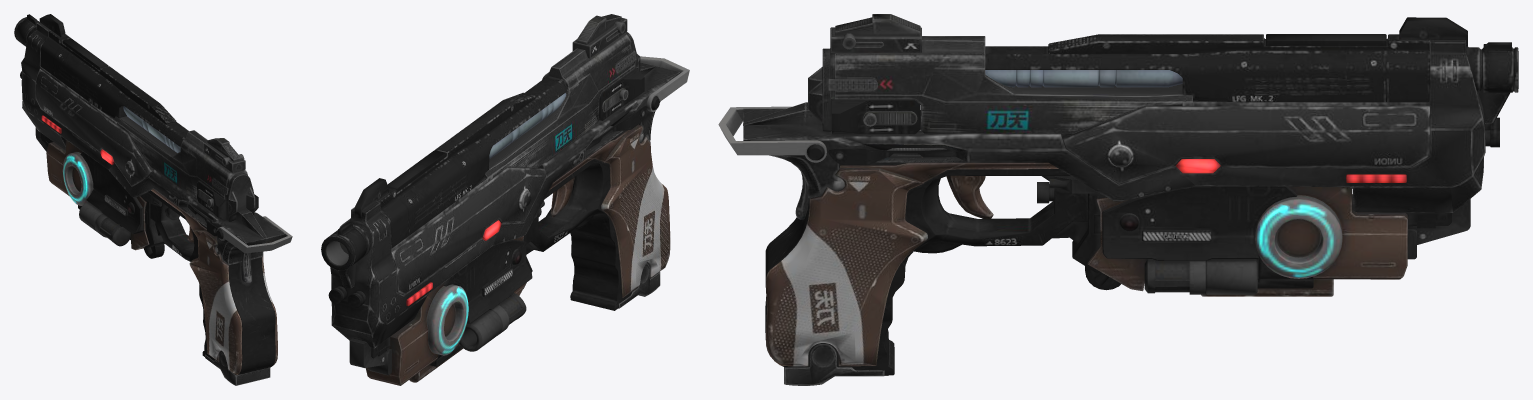
The model's file is magnum.glb.
The picture shows the model from 3 angles, left to right: view 1: azimuth 30°, elevation 25°; view 2: azimuth 150°, elevation 25°; view 3: azimuth 270°, elevation 25°; orthographic projection. The views are drawn at different scales.
Parts seen in each view (by area): view 1: ShouQiang5_ShouQiang_0; view 2: ShouQiang5_ShouQiang_0; view 3: ShouQiang5_ShouQiang_0.
Part boxes in pixels (x1,y1,x2,y2): ShouQiang5_ShouQiang_0: [14, 14, 292, 385]; ShouQiang5_ShouQiang_0: [321, 14, 689, 385]; ShouQiang5_ShouQiang_0: [718, 14, 1518, 385].
Bounding box in the file's own units: 0.0191 × 0.0701 × 0.143.
1 material, 1 textured.
